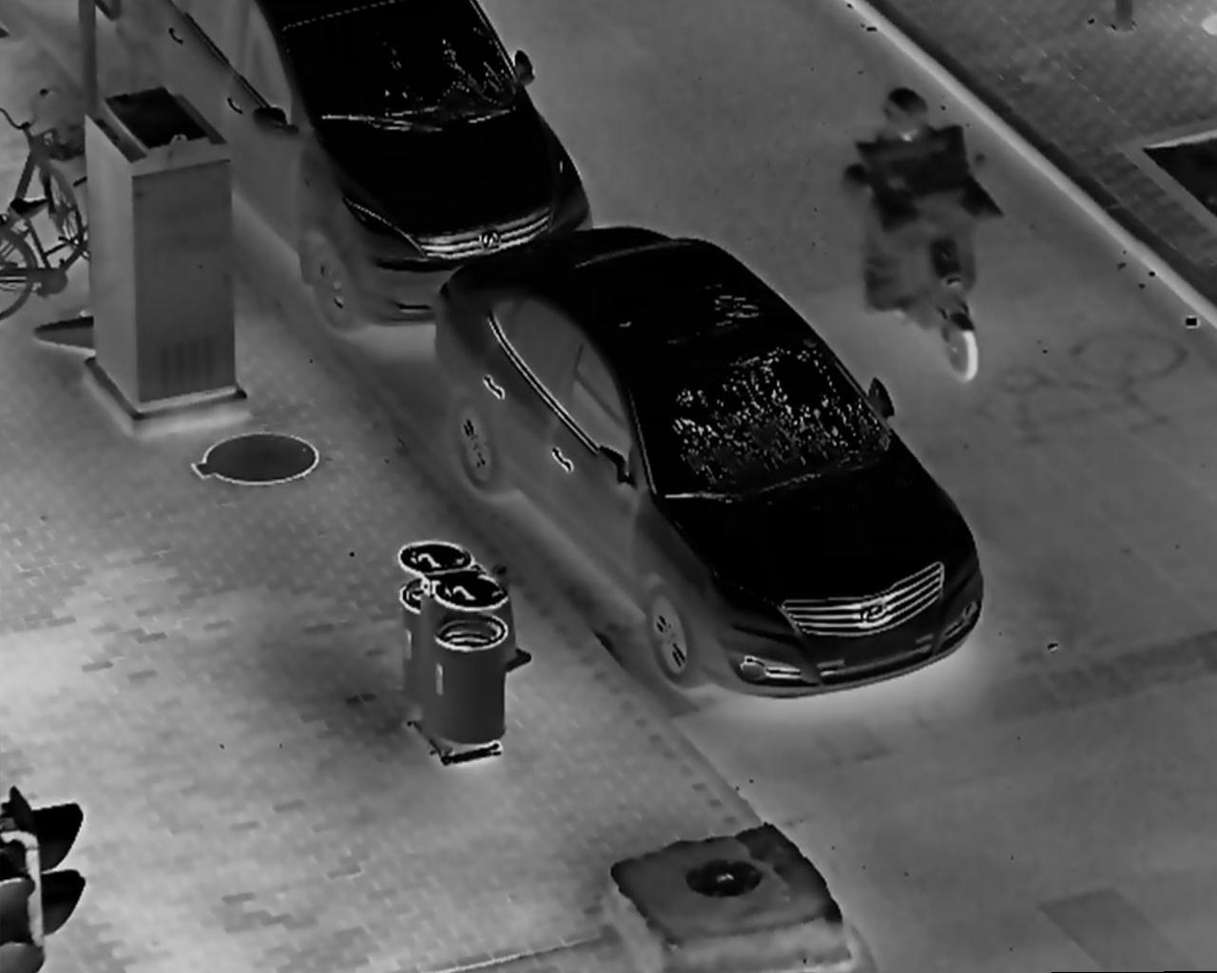person: (864, 88, 975, 316)
